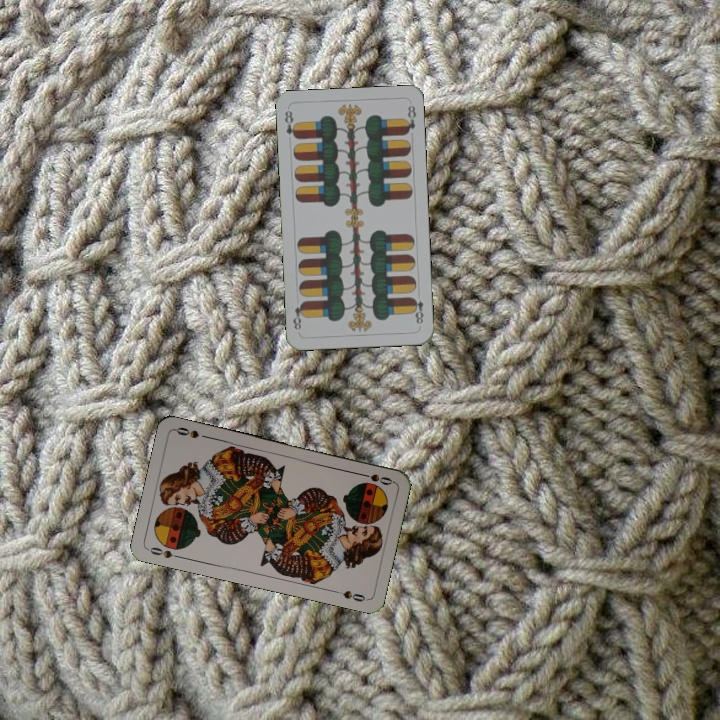E8: (280, 107, 300, 141), (408, 294, 426, 327)
SO: (355, 469, 395, 488), (144, 543, 184, 561)
